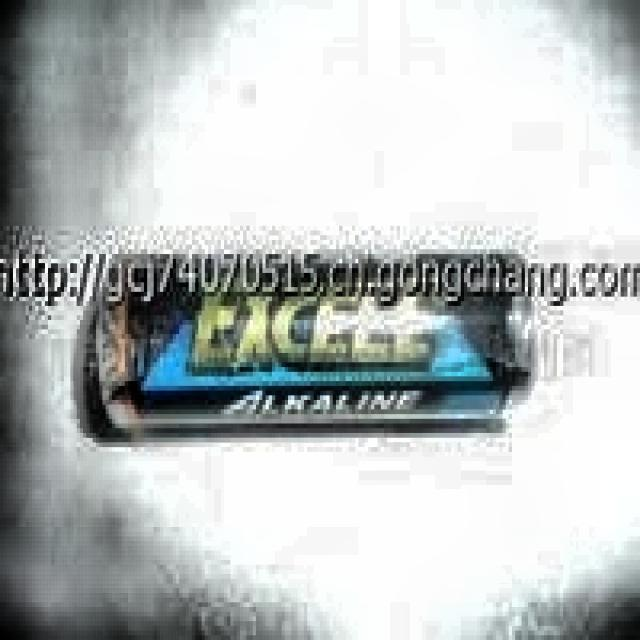battery: (85, 254, 531, 438)
